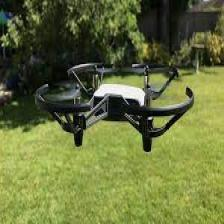drone: (34, 61, 194, 149)
